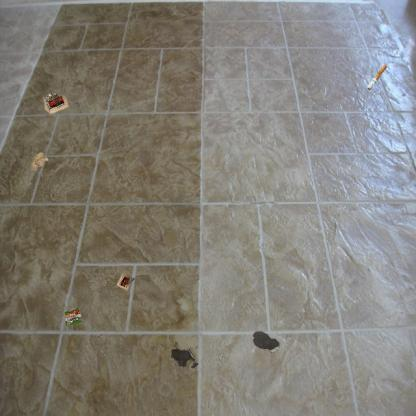dirty: (40, 91, 70, 116), (366, 62, 390, 91), (115, 270, 137, 292), (63, 306, 84, 328), (30, 151, 50, 172)
liquid: (251, 330, 280, 354), (170, 347, 199, 370)
